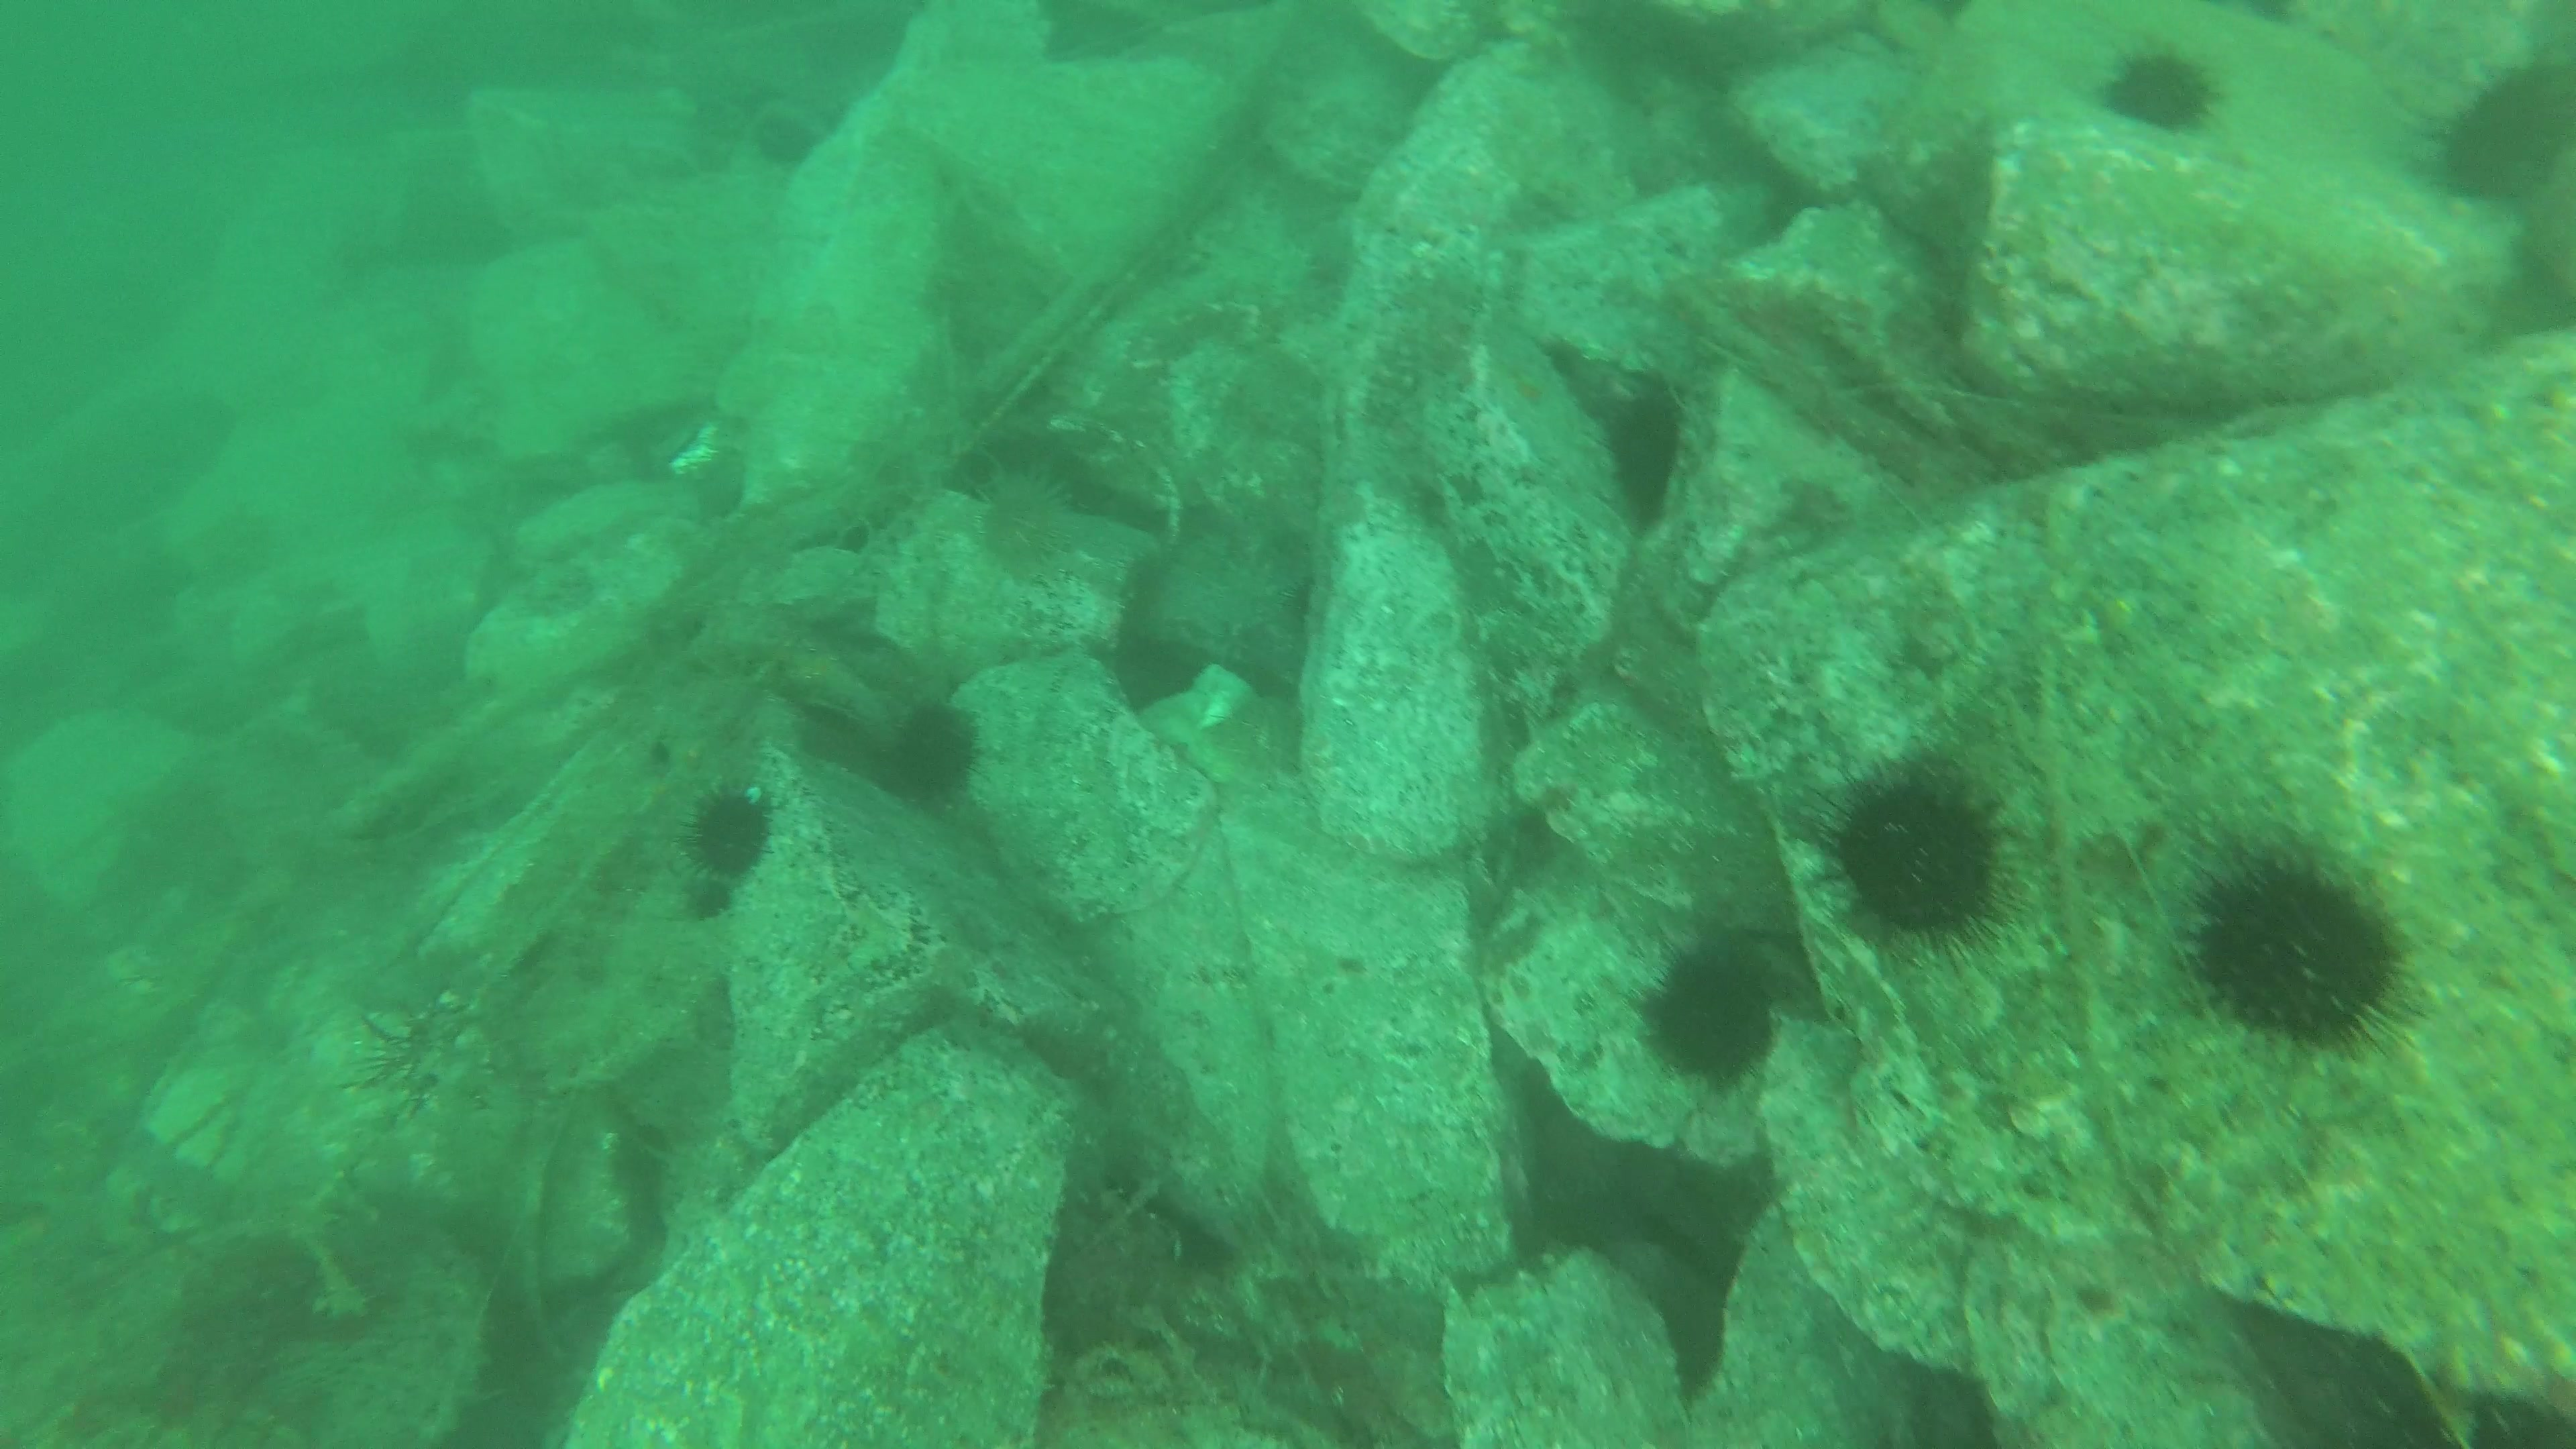echinus: (2162, 819, 2424, 1077), (1790, 763, 2033, 961), (1624, 943, 1810, 1097), (2427, 58, 2576, 207), (957, 469, 1093, 602), (1589, 380, 1698, 531), (2093, 34, 2229, 142), (885, 697, 980, 805), (669, 789, 791, 870)
holothurian: (1049, 244, 1265, 453), (1739, 303, 1937, 478), (1357, 244, 1476, 472)
